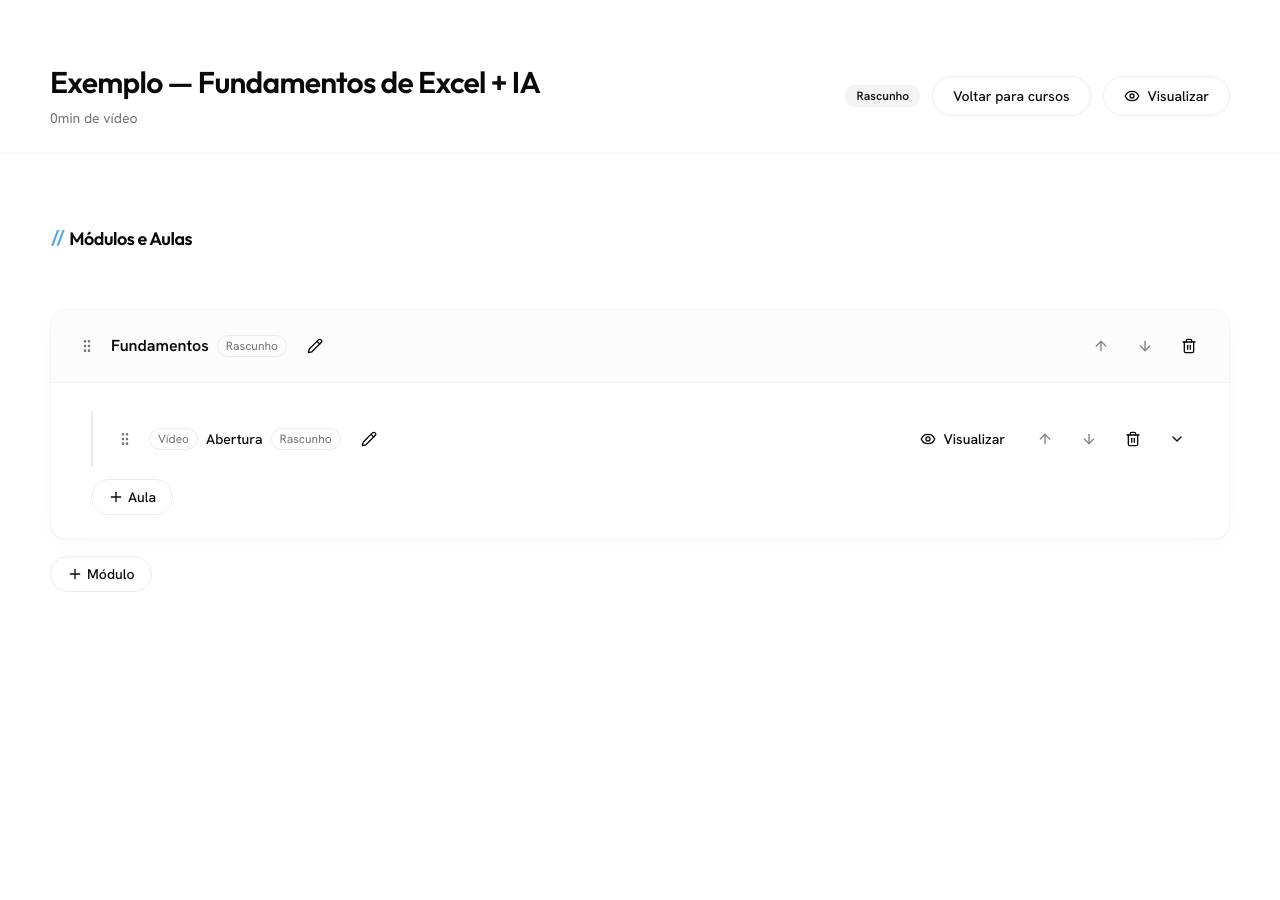
Scenario: arquivos da aula › a aula aberta mostra os arquivos junto com o vídeo; recolher esconde
What coordinates should you click on to do the following:
click the button named "Abrir a aula Abertura"
I would click on:
 (1177, 439)
Its box is [1157,419,1197,459].
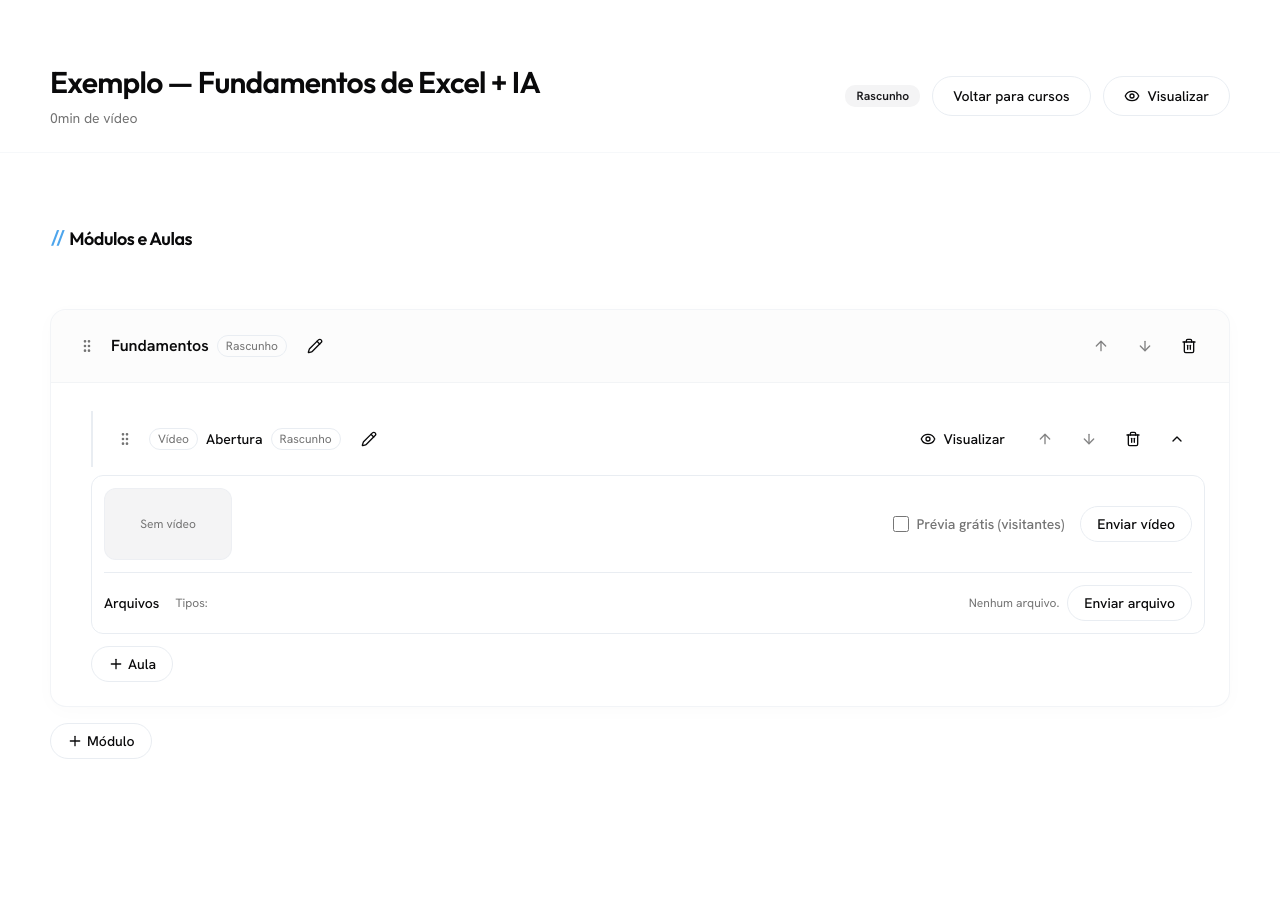
Expected: the text "Arquivos" is shown, [104,593,159,613]
Expected: the button "Enviar vídeo" is shown, [1080,506,1192,542]
What coordinates should you click on to do the following:
click the button named "Recolher a aula Abertura"
I would click on:
 (1177, 439)
Its box is [1157,419,1197,459].
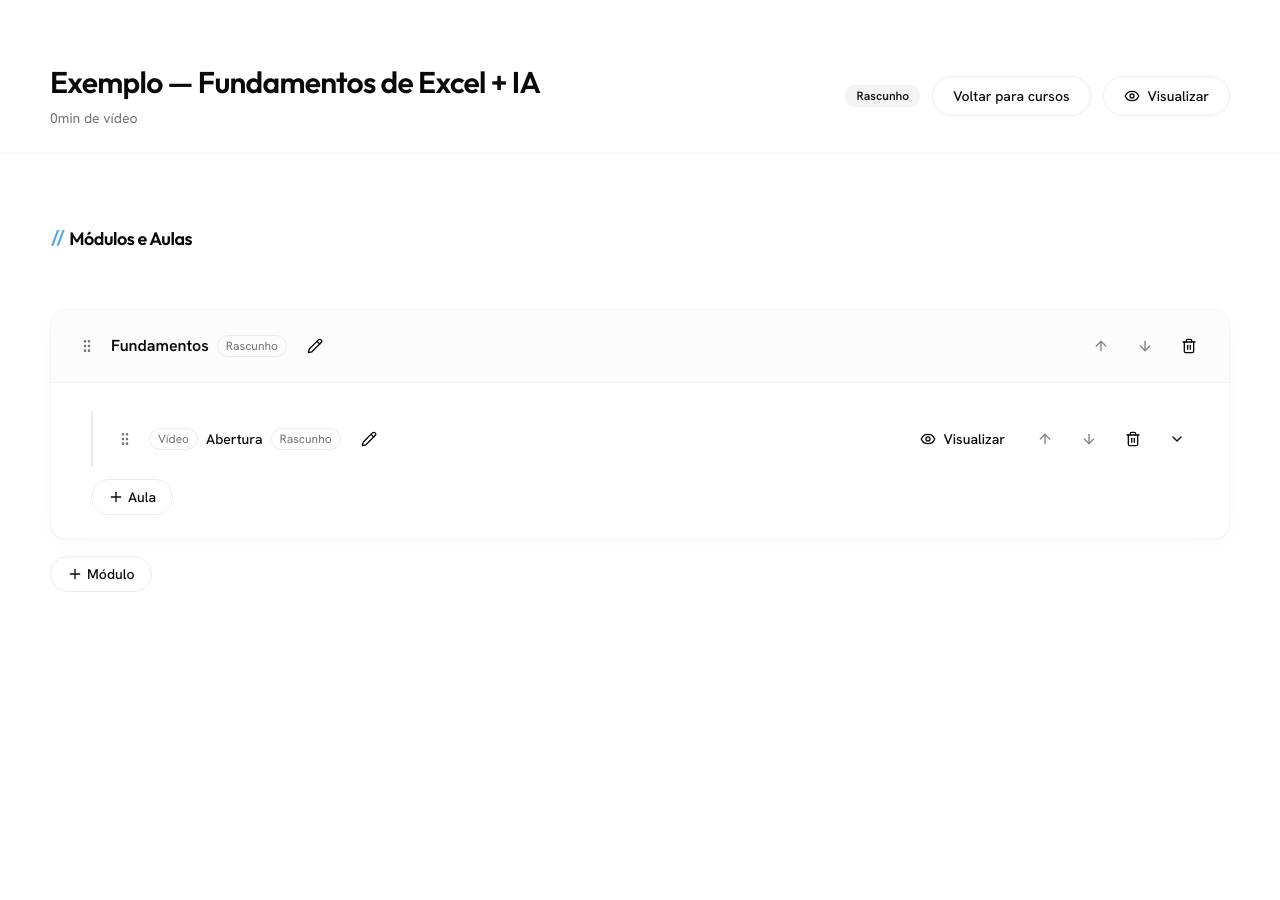
Expected: the text "Arquivos" is gone
Expected: the button "Enviar vídeo" is gone
